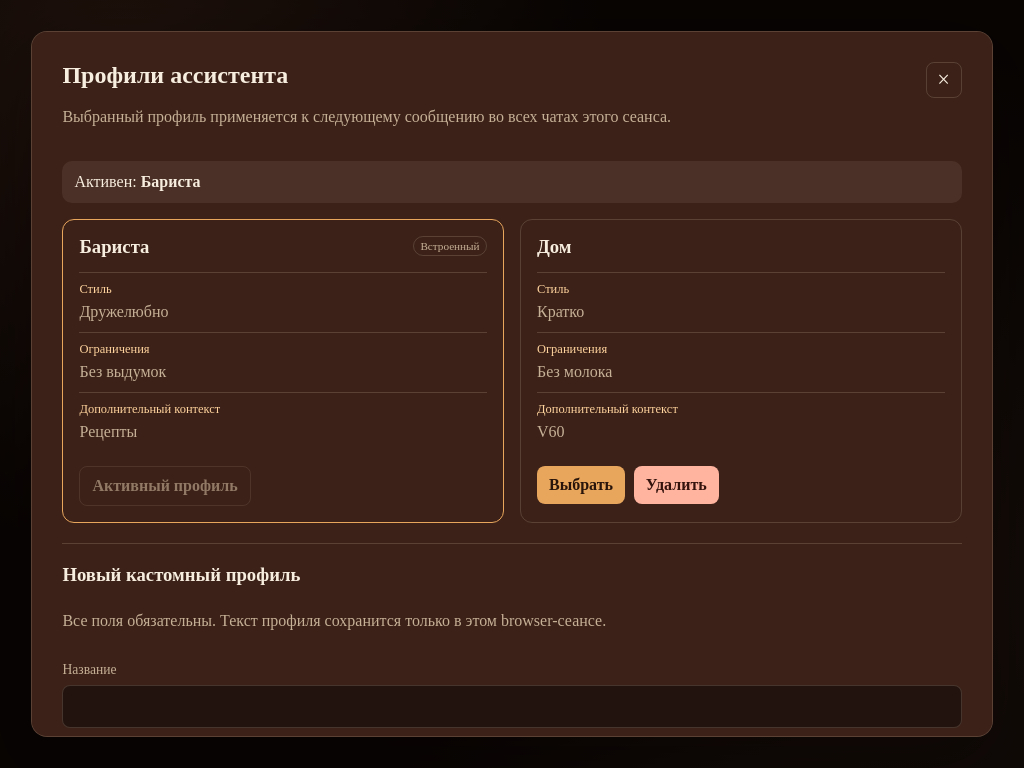
Test: ProfileManager › не создаёт профиль, пока не заполнены все свободные поля
Type "Дом" into the field labelled "Название".
click(512, 707); type("Дом")  # box left=62, top=685, right=962, bottom=728
(page scrolled)
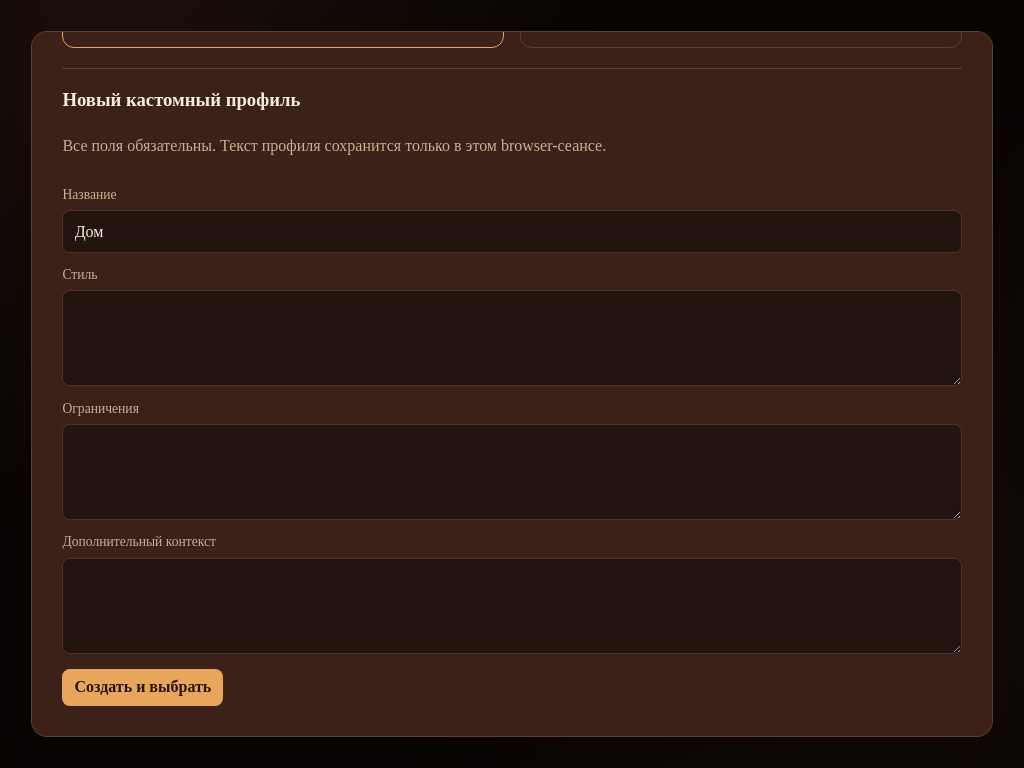
Click the button "Создать и выбрать".
click(143, 687)  # box left=62, top=669, right=223, bottom=706
(page scrolled)
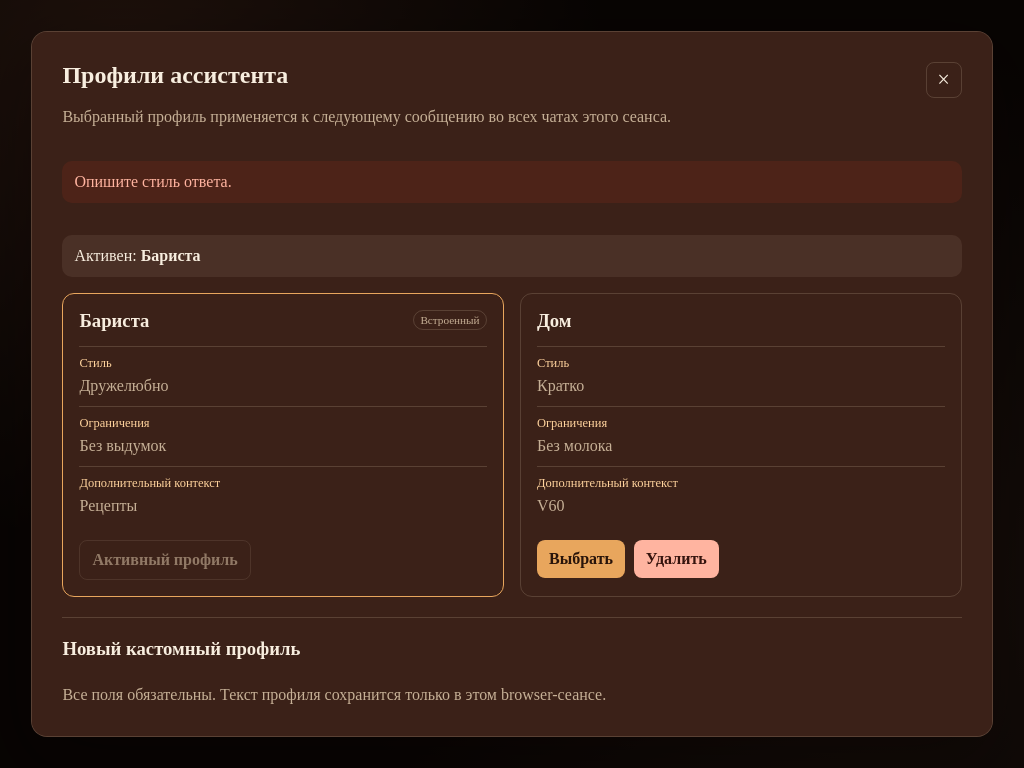
Result: the message "Опишите стиль ответа." is shown at left=62, top=161, right=962, bottom=203
